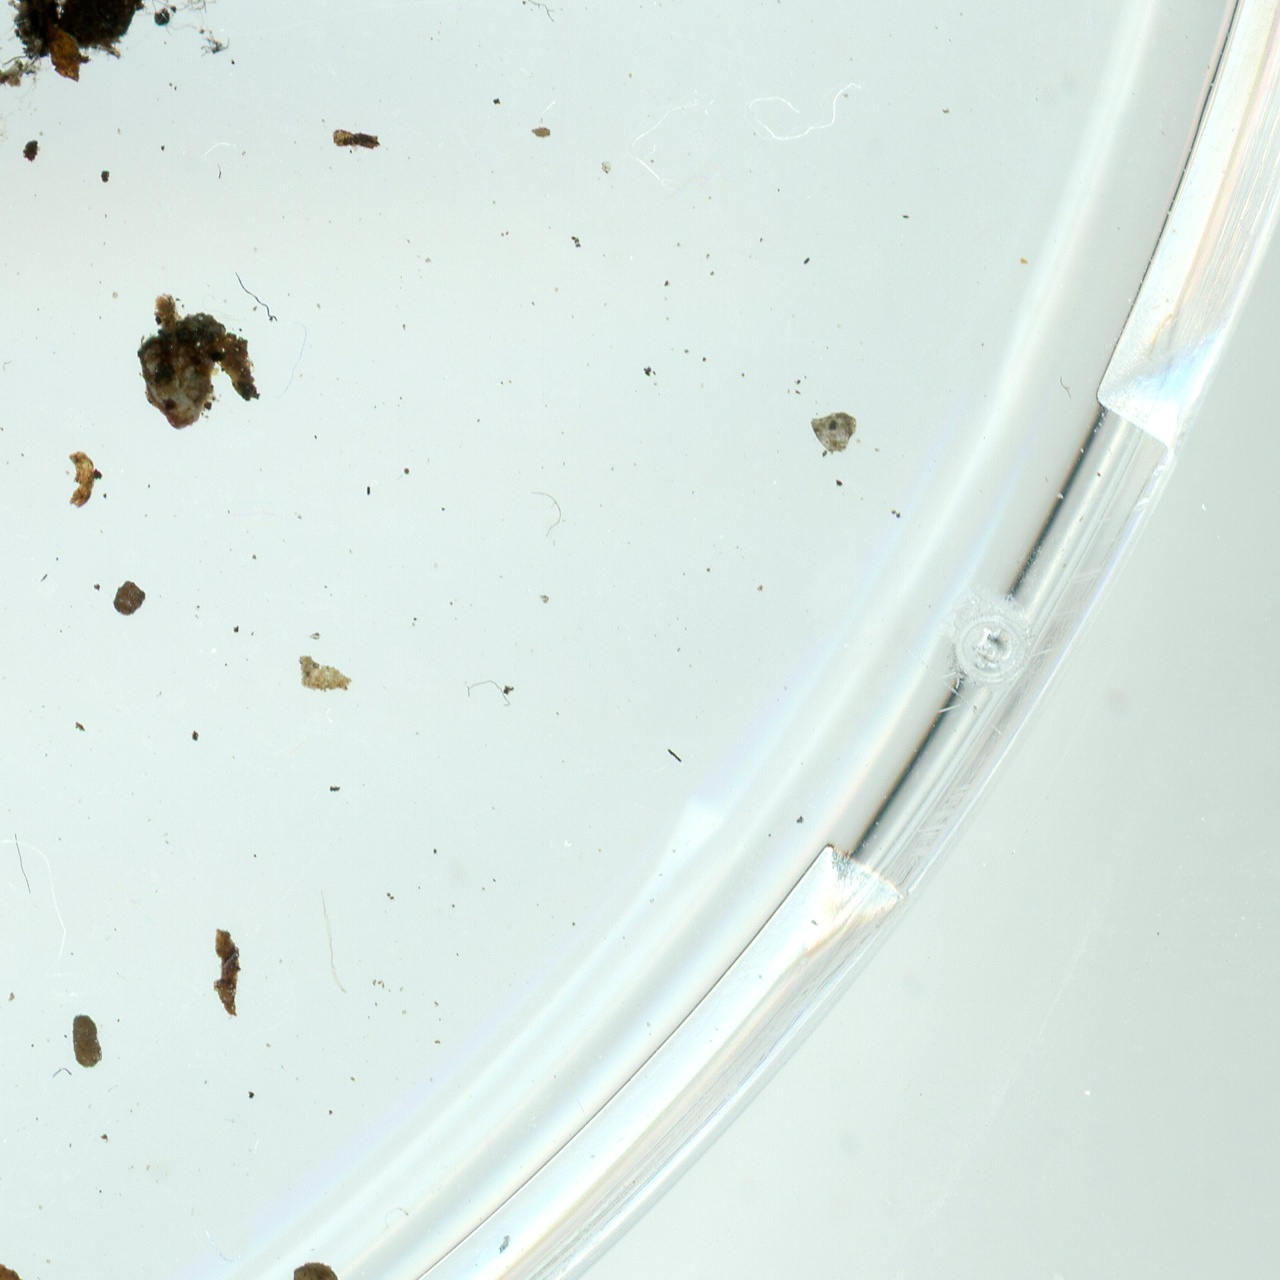arthropod: (0, 23, 42, 97)
